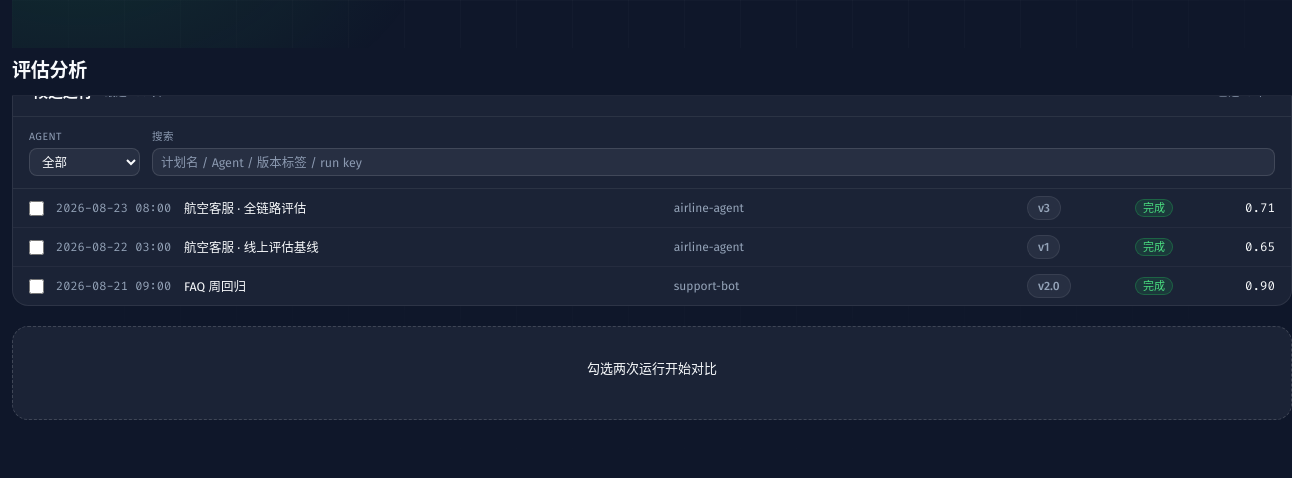
Scenario: 对比页：跨方案选两条 › 选择走真的勾选框：勾上=选中、去掉勾=取消（不是 aria-pressed 的按钮）
Check: the list with test id "compare-list" is shown, box [13, 189, 1291, 305]
Click the list item "2026-08-22 03:00 航空客服 · 线上评估基线 airline-agent v1 完成 0.65" at (114,247), box [13, 227, 1291, 266]
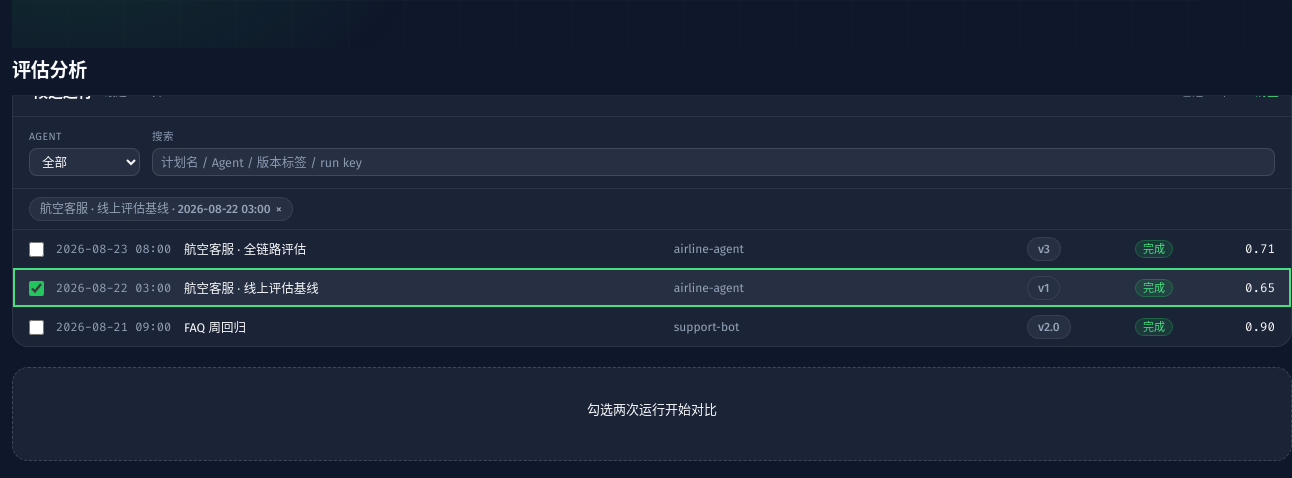
Check: the text with test id "compare-selcount" reads "已选 1 / 2", box [1181, 84, 1243, 101]
// 去掉勾 → 回到未选
Click the checkbox labelled "2026-08-22 03:00 航空客服 · 线上评估基线 airline-agent v1 完成 0.65" at (36,288), box [29, 281, 44, 296]
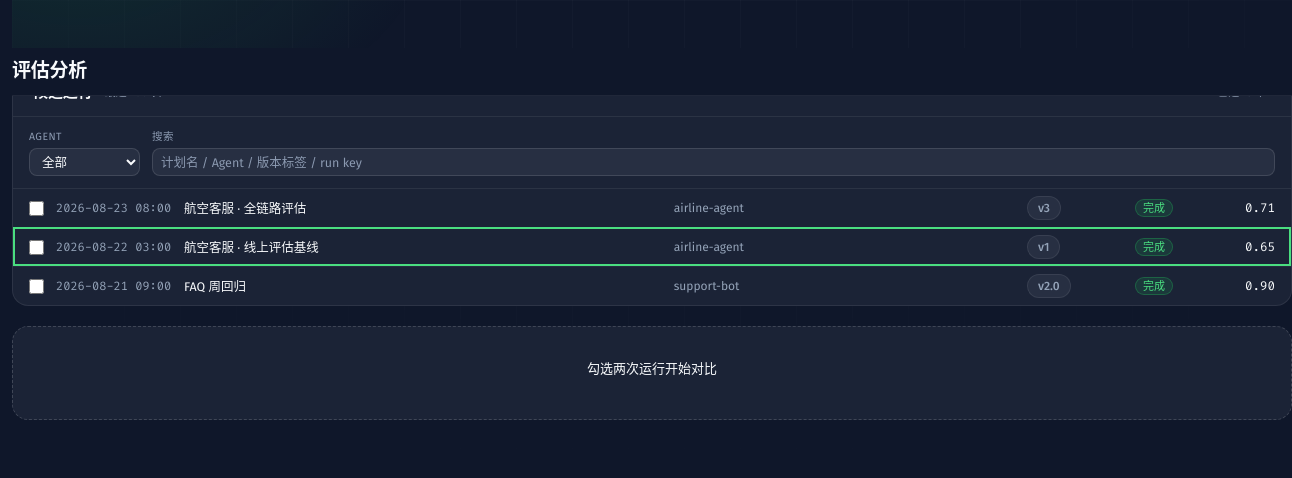
Check: the text with test id "compare-selcount" reads "已选 0 / 2", box [1217, 84, 1279, 101]
